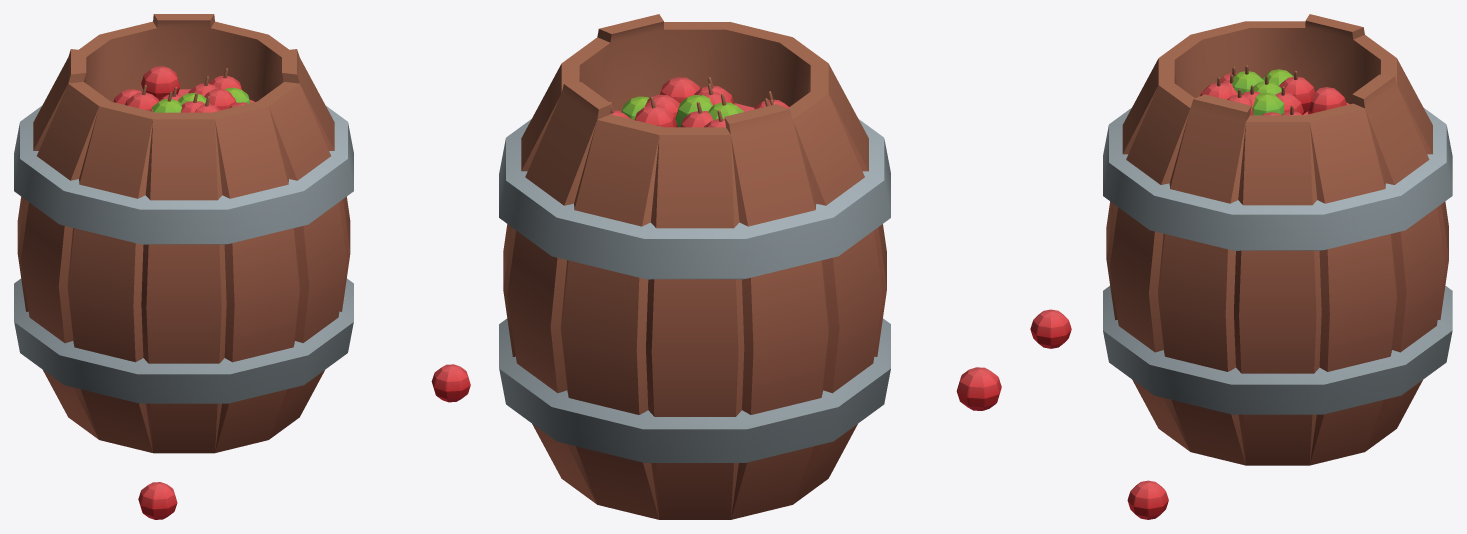
File: apple_barrel_18.glb
The picture shows the model from 3 angles, left to right: view 1: azimuth 30°, elevation 25°; view 2: azimuth 150°, elevation 25°; view 3: azimuth 270°, elevation 25°; orthographic projection. The views are drawn at different scales.
Visible parts, largest first — view 1: apple_barrel_18; view 2: apple_barrel_18; view 3: apple_barrel_18.
Boxes of the visible parts, bbox=[...] form: apple_barrel_18: bbox=[14, 14, 470, 519]; apple_barrel_18: bbox=[499, 14, 1001, 519]; apple_barrel_18: bbox=[1030, 14, 1452, 519].
Bounding box in the file's own units: 1.38 × 1.2 × 1.3.
2 materials, 2 textured.
